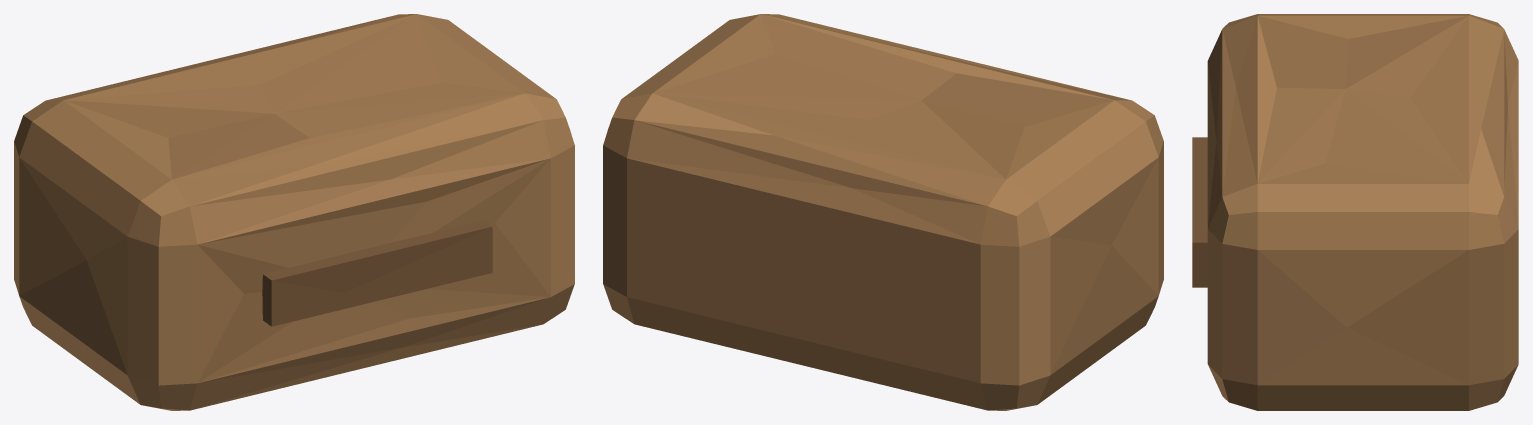
Rendered from soap_kusok_myla_idle.glb.
3 views of the same model, side by side, from view 1: azimuth 30°, elevation 25°; view 2: azimuth 150°, elevation 25°; view 3: azimuth 270°, elevation 25° (orthographic). The views are drawn at different scales.
Parts seen in each view (by area): view 1: soap_kusok_myla_idle; view 2: soap_kusok_myla_idle; view 3: soap_kusok_myla_idle.
Part boxes in pixels (x1,y1,x2,y2): soap_kusok_myla_idle: (14,14,574,410); soap_kusok_myla_idle: (603,14,1163,410); soap_kusok_myla_idle: (1192,14,1518,410).
Size of the model in its own units: 0.08 by 0.04 by 0.0525.
1 material, 1 textured.
